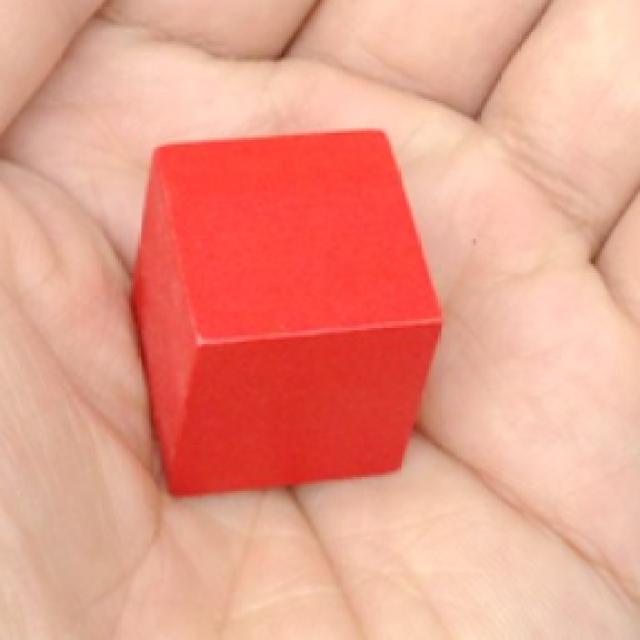red cube: (131, 128, 442, 498)
